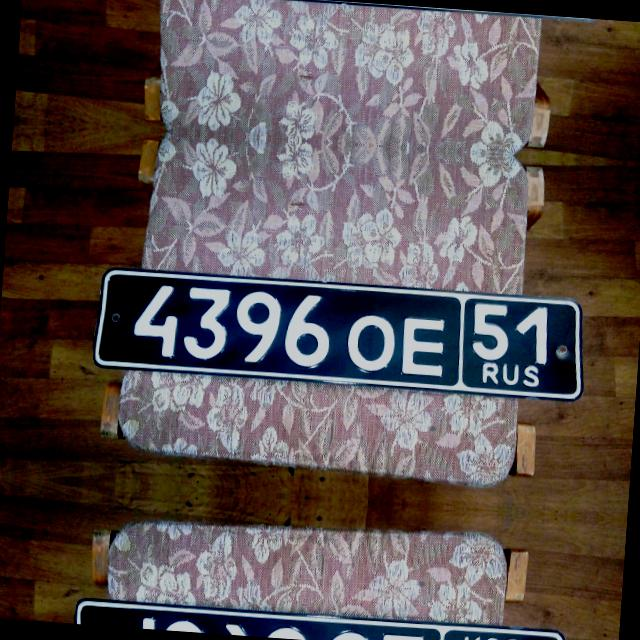military: (87, 256, 595, 411), (69, 586, 571, 640)
